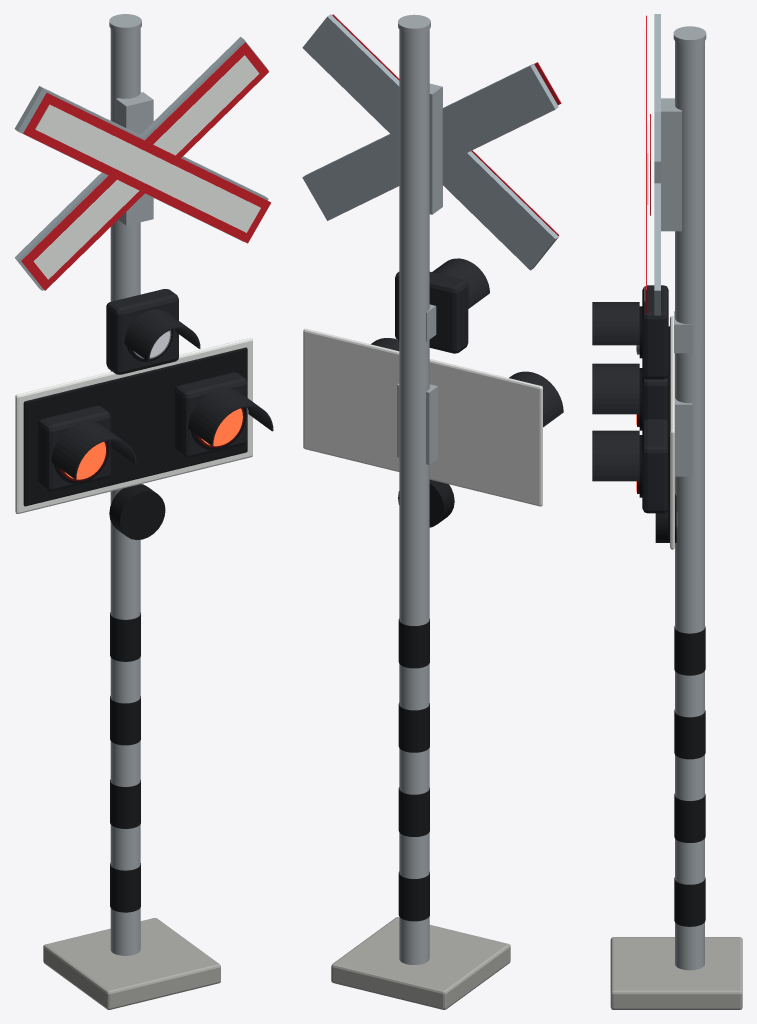
The model's file is TK_RailwaySignal.fbx.
3 renders of one model, left to right at view 1: azimuth 30°, elevation 25°; view 2: azimuth 150°, elevation 25°; view 3: azimuth 270°, elevation 25°, orthographic.
Visible parts, largest first — view 1: Screen, Mast, Foundation.001, Sign131_Face_Field_1, Sign131_Face_Field_0, Sign131_Face_Border_1, Screen_Edge, Sign131_Face_Border_0, Module_White, Module_Red_R, Module_Red_L, Bell (+12 smaller); view 2: Screen_Edge, Mast, Sign131_Plate_Back, Sign131_Plate_Back.001, Foundation.001, Module_White, Sign131_Bracket, MastBand.001, MastBand, MastBand.002, MastBand.003, Visor_White (+3 smaller); view 3: Mast, Foundation.001, Sign131_Bracket, Module_Red_R, Visor_Red_L, Visor_Red_R, Module_White, Visor_White, Sign131_Plate_Back.001, MastBand.003, MastBand, MastBand.002 (+10 smaller).
Boxes of the visible parts, x1,y1,x2,y2 form: Screen: (23, 347, 247, 506); Mast: (110, 28, 140, 955); Foundation.001: (43, 918, 220, 1009); Sign131_Face_Field_1: (35, 104, 260, 232); Sign131_Face_Field_0: (33, 55, 259, 279); Sign131_Face_Border_1: (23, 93, 271, 243); Screen_Edge: (15, 337, 252, 513); Sign131_Face_Border_0: (21, 42, 268, 290); Module_White: (106, 289, 178, 374); Module_Red_R: (174, 372, 247, 458); Module_Red_L: (38, 405, 110, 491); Bell: (109, 484, 165, 539); Screen_Edge: (303, 328, 542, 506); Mast: (399, 29, 429, 964); Sign131_Plate_Back: (302, 14, 558, 270); Sign131_Plate_Back.001: (302, 63, 558, 220); Foundation.001: (331, 917, 510, 1009); Module_White: (395, 272, 468, 353); Sign131_Bracket: (429, 83, 442, 214); MastBand.001: (398, 787, 429, 836); MastBand: (398, 871, 429, 921); MastBand.002: (398, 703, 429, 752); MastBand.003: (398, 618, 429, 668); Visor_White: (432, 258, 489, 308); Mast: (675, 41, 704, 970); Foundation.001: (610, 937, 742, 1009); Sign131_Bracket: (661, 98, 681, 231); Module_Red_R: (642, 419, 668, 513); Visor_Red_L: (592, 363, 639, 414); Visor_Red_R: (592, 430, 639, 481); Module_White: (642, 285, 668, 379); Visor_White: (592, 302, 639, 345); Sign131_Plate_Back.001: (654, 14, 660, 315); MastBand.003: (674, 626, 705, 675); MastBand: (674, 877, 705, 926); MastBand.002: (674, 709, 705, 759).
Bounding box in the file's own units: 110 × 397 × 57.
